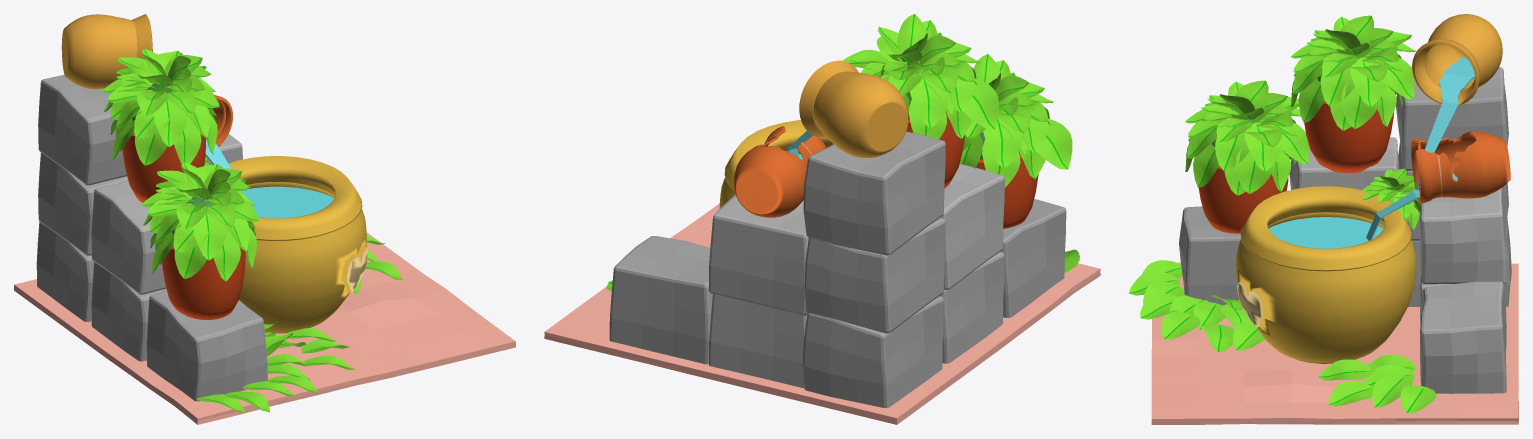
The model's file is FountainVase.fbx.
The picture shows the model from 3 angles, left to right: view 1: azimuth 30°, elevation 25°; view 2: azimuth 150°, elevation 25°; view 3: azimuth 270°, elevation 25°; orthographic projection. The views are drawn at different scales.
Visible parts, largest first — view 1: FountainVase; view 2: FountainVase; view 3: FountainVase.
Part boxes in pixels (x1,y1,x2,y2): FountainVase: [14, 14, 515, 424]; FountainVase: [544, 14, 1100, 424]; FountainVase: [1129, 14, 1518, 424].
Bounding box in the file's own units: 22.1 × 18.1 × 22.84.
